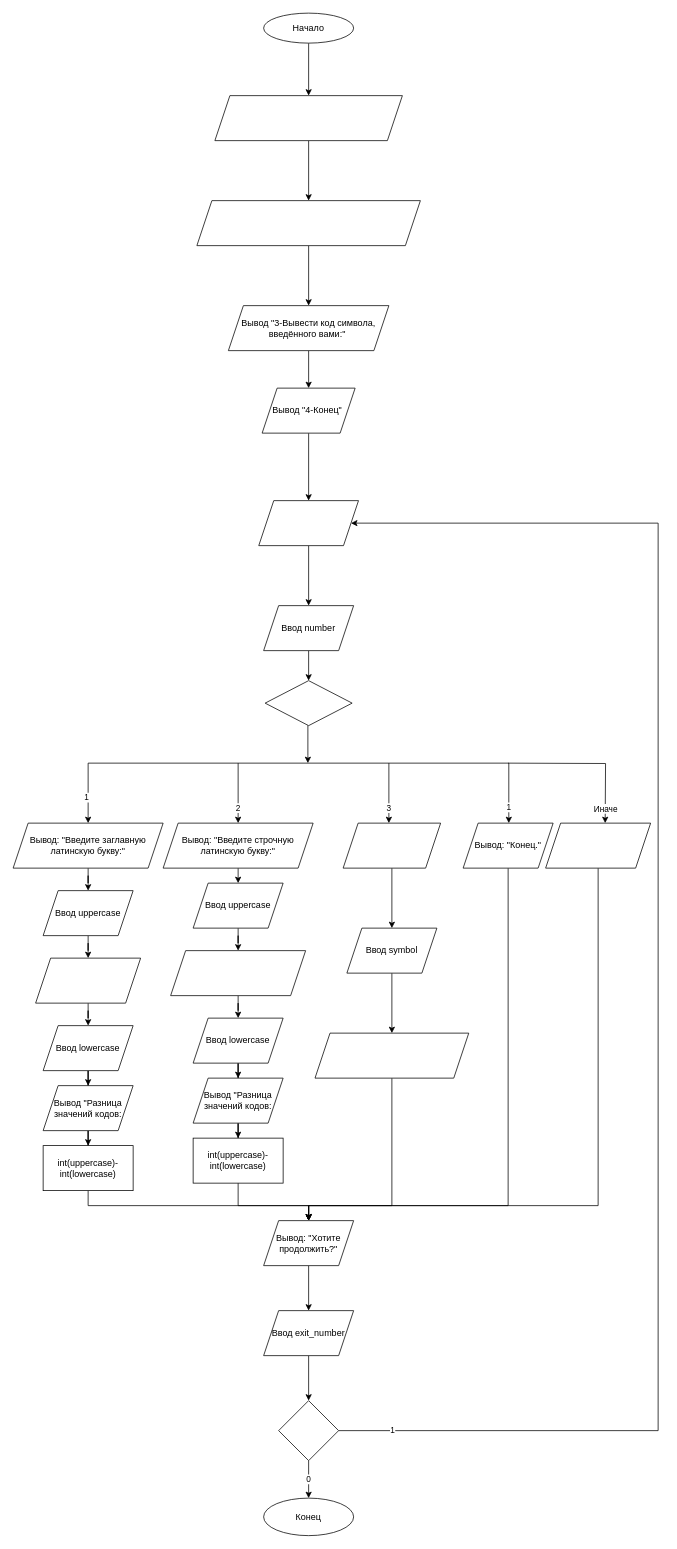
Some shapes in this 677 by 1549 pixel diagram are drawn without their labels. Here are the shapes that lost their labels. From the top down, the centre of each, then its label:
the point at 308,118: Вывод "1-Разница значений кодов заглавной и строчной букв латинского алфавита,"
the point at 308,223: Вывод "2-Разница значений кодов заглавной и строчной букв латинского алфавита,"
the point at 308,523: Вывод "Введите номер"
the point at 308,703: number
the point at 391,845: Вывод: "Введите любой смивол
the point at 598,845: Вывод; "Нет такого варианта!!!"
the point at 88,980: Вывод "Введите строчную латинскую букву
the point at 238,973: Вывод "Введите строчную русскую букву
the point at 391,1055: Вывод: "Код введённого вами символа:" int(symbol)
the point at 308,1430: exit_number
